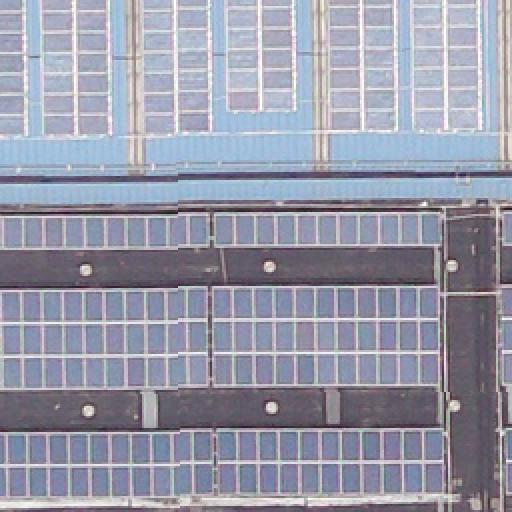solar-panel: (214, 285, 438, 387), (0, 286, 208, 390), (0, 211, 444, 253), (216, 428, 444, 496), (1, 431, 215, 497), (140, 1, 212, 135), (41, 0, 111, 136), (408, 0, 476, 128), (324, 0, 392, 128), (225, 0, 295, 112), (0, 0, 28, 136), (500, 282, 512, 386), (500, 431, 512, 497), (500, 210, 512, 246)
